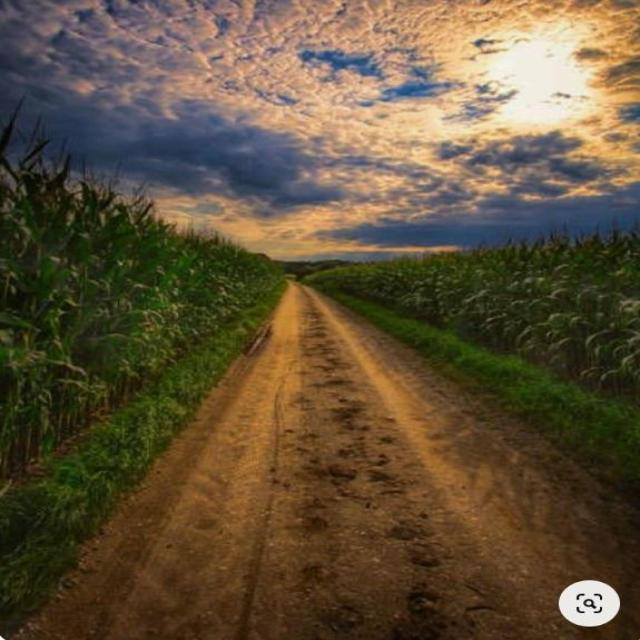row: (1, 274, 640, 639)
